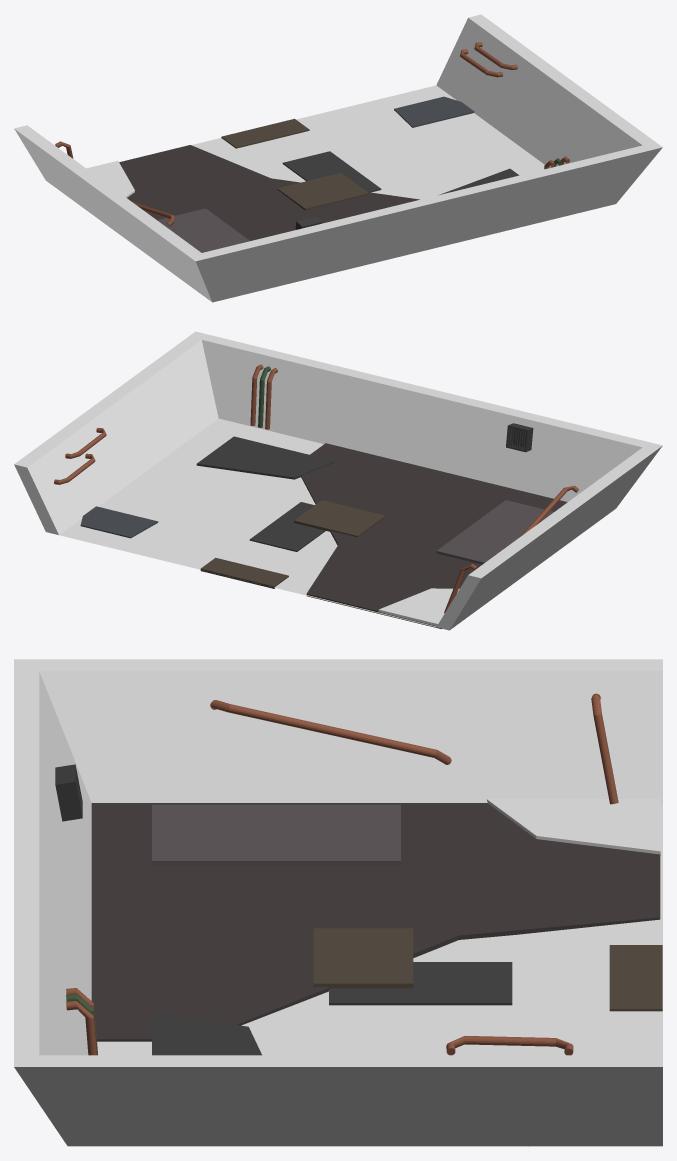
Rendered from map.fbx.
3 views of the same model, one above another, from view 1: azimuth 30°, elevation 25°; view 2: azimuth 150°, elevation 25°; view 3: azimuth 270°, elevation 25° (orthographic). The views are drawn at different scales.
Parts seen in each view (by area): view 1: Plane, Cube.009, Cube.004, Cube.007, Cube.001, Cube.005, Cube.008, Cube.006, Cube; view 2: Plane, Cube.009, Cube.004, Cube, Cube.007, Cube.001, Cube.006, Cube.005, Cube.008, Cylinder.007; view 3: Plane, Cube.009, Cube.004, Cube.006, Cube.007, Cube.001, Cube, Cube.008, Cylinder.005, Cylinder.007, Cylinder.004, Cylinder.006.
Part boxes in pixels (x1=…): Plane: x1=14, y1=14, x2=662, y2=302; Cube.009: x1=119, y1=145, x2=419, y2=240; Cube.004: x1=157, y1=208, x2=249, y2=252; Cube.007: x1=277, y1=173, x2=368, y2=210; Cube.001: x1=282, y1=151, x2=381, y2=192; Cube.005: x1=394, y1=96, x2=474, y2=127; Cube.008: x1=221, y1=118, x2=309, y2=148; Cube.006: x1=86, y1=160, x2=134, y2=197; Cube: x1=438, y1=168, x2=519, y2=195; Plane: x1=14, y1=331, x2=662, y2=630; Cube.009: x1=301, y1=443, x2=567, y2=629; Cube.004: x1=436, y1=500, x2=553, y2=564; Cube: x1=196, y1=436, x2=335, y2=479; Cube.007: x1=294, y1=500, x2=385, y2=537; Cube.001: x1=249, y1=502, x2=325, y2=551; Cube.006: x1=378, y1=588, x2=459, y2=626; Cube.005: x1=80, y1=506, x2=158, y2=538; Cube.008: x1=200, y1=557, x2=288, y2=588; Cylinder.007: x1=506, y1=423, x2=533, y2=452; Plane: x1=14, y1=659, x2=662, y2=1146; Cube.009: x1=91, y1=803, x2=660, y2=1041; Cube.004: x1=152, y1=804, x2=400, y2=865; Cube.006: x1=486, y1=799, x2=660, y2=855; Cube.007: x1=313, y1=928, x2=413, y2=988; Cube.001: x1=329, y1=962, x2=512, y2=1005; Cube: x1=152, y1=1014, x2=261, y2=1055; Cube.008: x1=609, y1=945, x2=662, y2=1011; Cylinder.005: x1=210, y1=700, x2=451, y2=764; Cylinder.007: x1=55, y1=764, x2=82, y2=821; Cylinder.004: x1=446, y1=1036, x2=573, y2=1055; Cylinder.006: x1=591, y1=693, x2=618, y2=804.
Bounding box in the file's own units: 5779 × 725 × 3889.
